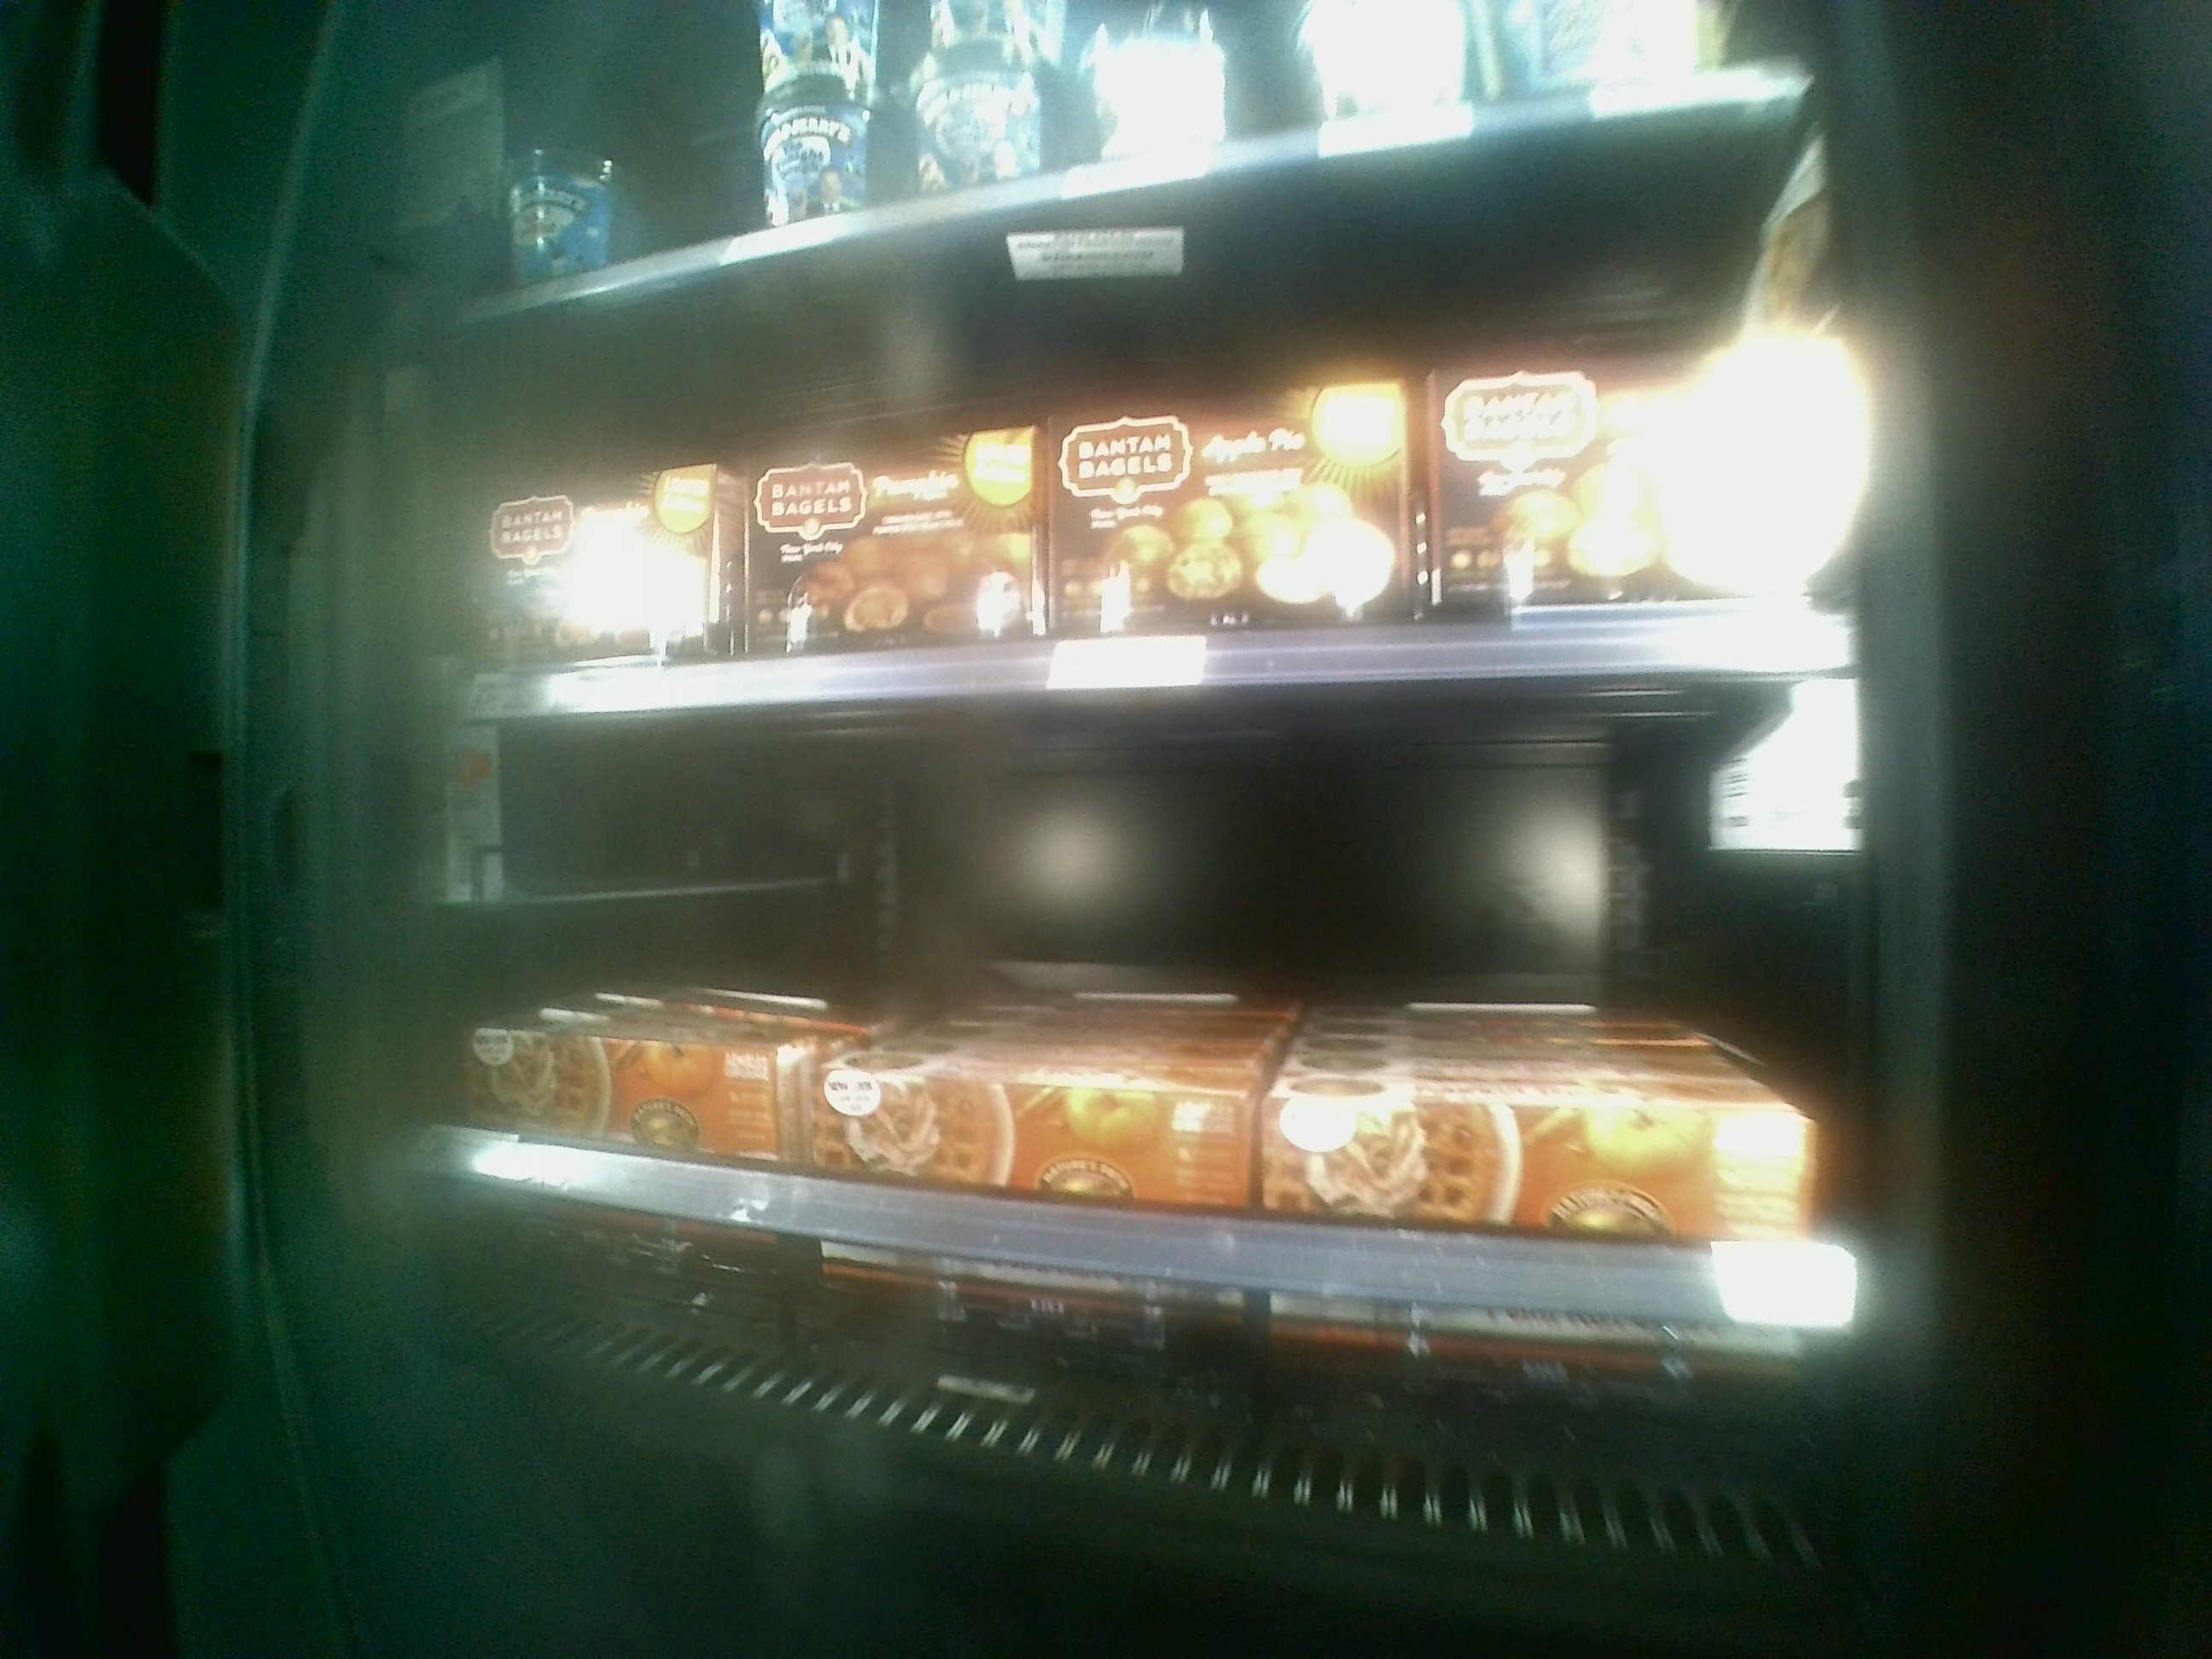shelf: (415, 678, 1843, 1298), (467, 291, 1843, 664)
